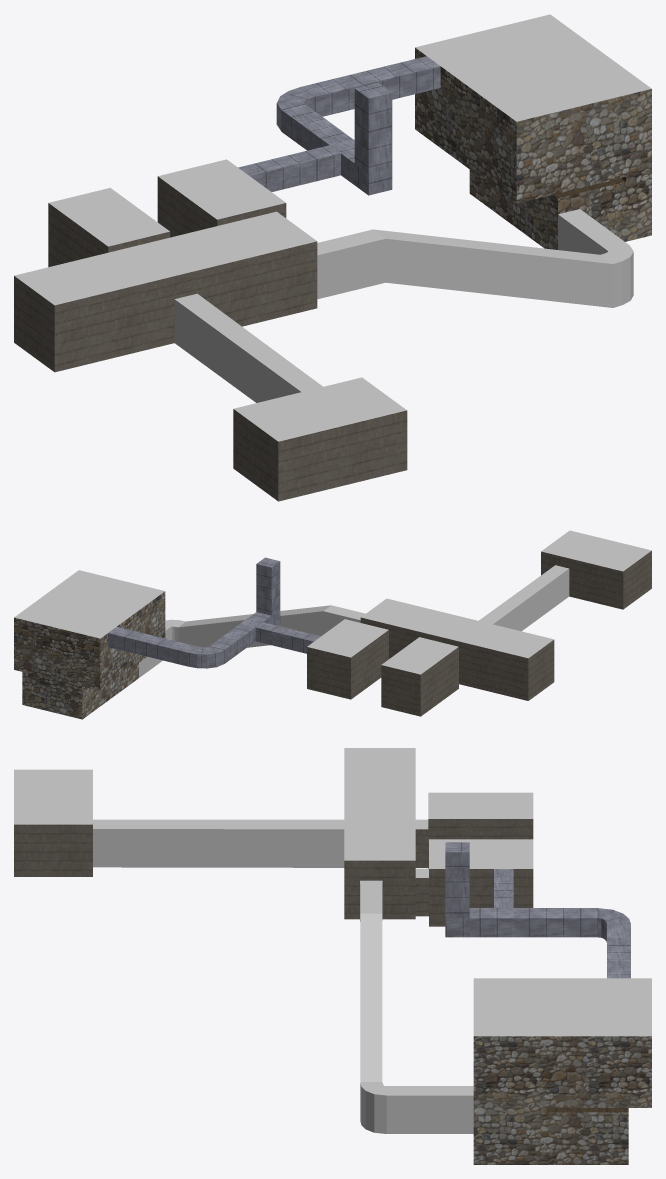
File: TEST LEVEL.fbx
The picture shows the model from 3 angles, top to bottom: view 1: azimuth 30°, elevation 25°; view 2: azimuth 150°, elevation 25°; view 3: azimuth 270°, elevation 25°; orthographic projection. The views are drawn at different scales.
Parts seen in each view (by area): view 1: Room.003, Room.004, hall_2.001, exit_room.001, vents.001, hall_1.001; view 2: Room.003, Room.004, vents.001, exit_room.001, hall_2.001, hall_1.001; view 3: Room.004, Room.003, hall_1.001, hall_2.001, vents.001, exit_room.001.
Boxes of the visible parts, box(x1,y1,x2,y2) form: Room.003: box(14, 159, 317, 372); Room.004: box(415, 14, 651, 249); hall_2.001: box(317, 209, 633, 307); exit_room.001: box(233, 377, 407, 501); vents.001: box(238, 56, 440, 195); hall_1.001: box(174, 293, 322, 402); Room.003: box(307, 598, 554, 716); Room.004: box(14, 570, 165, 719); vents.001: box(108, 557, 320, 668); exit_room.001: box(541, 530, 651, 609); hall_2.001: box(139, 605, 365, 677); hall_1.001: box(479, 565, 569, 631); Room.004: box(473, 978, 651, 1164); Room.003: box(344, 748, 533, 926); hall_1.001: box(93, 819, 344, 867); hall_2.001: box(360, 880, 473, 1133); vents.001: box(445, 842, 630, 978); exit_room.001: box(14, 769, 92, 876).
Size of the model in its own units: 5186 by 1638 by 4869.
